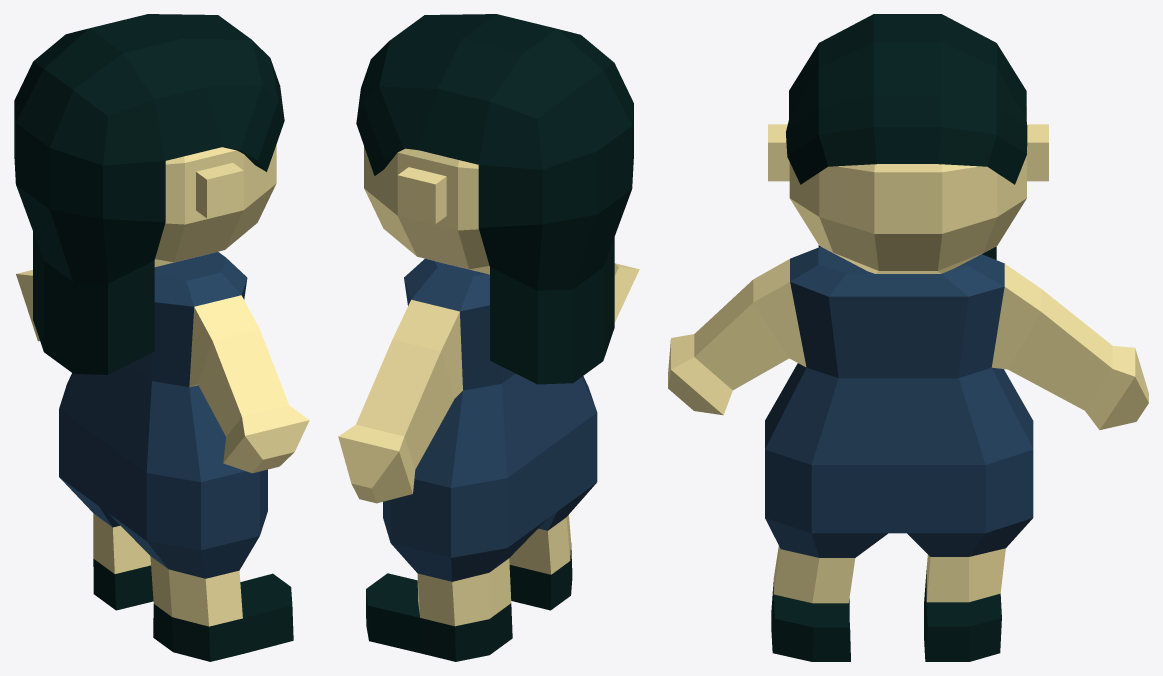
The model's file is doll-navy.fbx.
3 views of the same model, side by side, from view 1: azimuth 30°, elevation 25°; view 2: azimuth 150°, elevation 25°; view 3: azimuth 270°, elevation 25° (orthographic). The views are drawn at different scales.
Parts seen in each view (by area): view 1: girl.003; view 2: girl.003; view 3: girl.003.
Boxes of the visible parts, <box> form: girl.003: <box>14,14,309,661</box>; girl.003: <box>338,14,639,661</box>; girl.003: <box>668,14,1148,661</box>.
Size of the model in its own units: 145 by 346 by 259.
